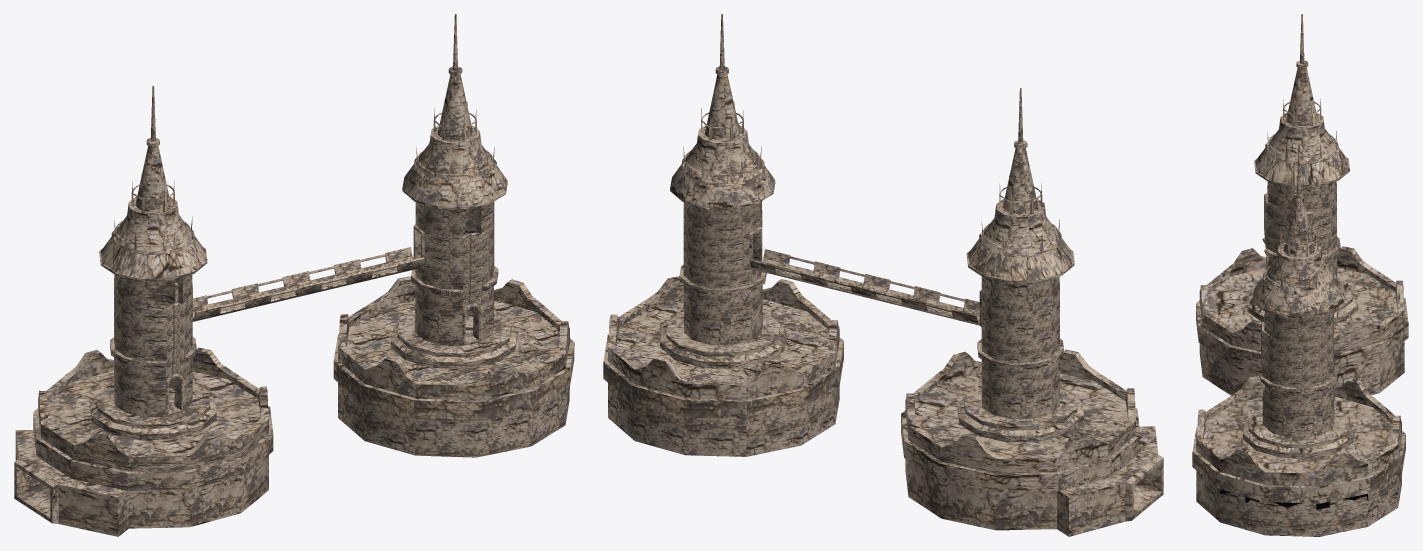
File: Bridges.obj
3 views of the same model, side by side, from view 1: azimuth 30°, elevation 25°; view 2: azimuth 150°, elevation 25°; view 3: azimuth 270°, elevation 25° (orthographic). The views are drawn at different scales.
Parts seen in each view (by area): view 1: Mesh (5), Mesh, Mesh (2), Mesh (4), Mesh (3); view 2: Mesh (5), Mesh, Mesh (2), Mesh (4), Mesh (3); view 3: Mesh (5), Mesh, Mesh (4), Mesh (3).
Part boxes in pixels (x1=…): Mesh (5): x1=14, y1=276, x2=574, y2=536; Mesh: x1=90, y1=14, x2=517, y2=440; Mesh (2): x1=193, y1=247, x2=423, y2=321; Mesh (4): x1=114, y1=173, x2=192, y2=249; Mesh (3): x1=416, y1=102, x2=494, y2=178; Mesh (5): x1=603, y1=276, x2=1163, y2=536; Mesh: x1=660, y1=14, x2=1083, y2=442; Mesh (2): x1=749, y1=249, x2=979, y2=325; Mesh (4): x1=981, y1=175, x2=1059, y2=252; Mesh (3): x1=683, y1=101, x2=761, y2=177; Mesh (5): x1=1192, y1=246, x2=1408, y2=536; Mesh: x1=1243, y1=14, x2=1358, y2=458; Mesh (4): x1=1267, y1=98, x2=1336, y2=159; Mesh (3): x1=1264, y1=222, x2=1333, y2=289.
Size of the model in its own units: 20.66 by 14.76 by 8.25.
